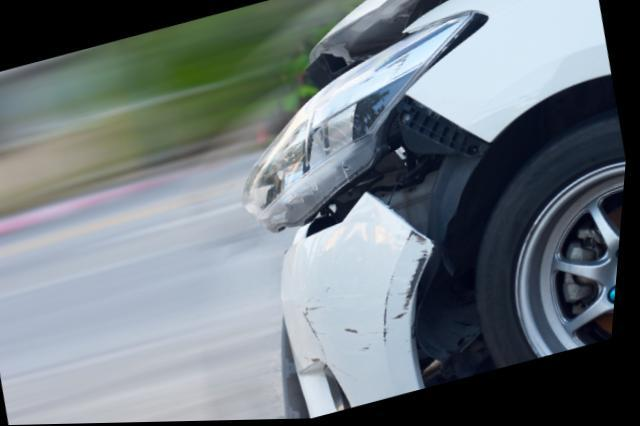dislocated part: (284, 95, 488, 420), (309, 0, 466, 94)
scratch: (302, 233, 433, 370)
